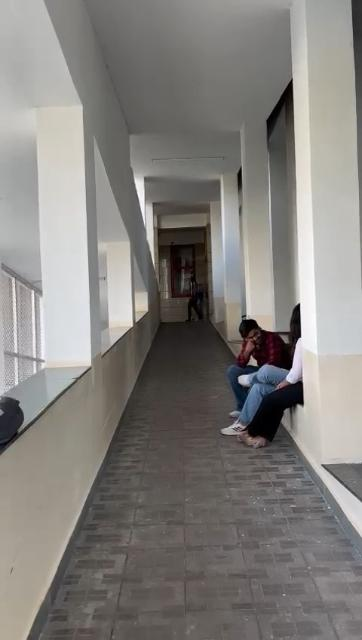floor: (43, 323, 362, 640)
moving-obj: (224, 312, 314, 452)
object: (0, 393, 24, 451)
wall: (2, 303, 161, 640), (298, 12, 362, 450), (42, 66, 88, 354), (111, 192, 138, 328), (248, 144, 267, 308), (225, 170, 244, 298)
